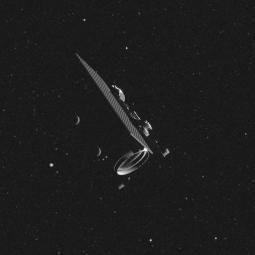proba_3_csc: (42, 52, 184, 189)
